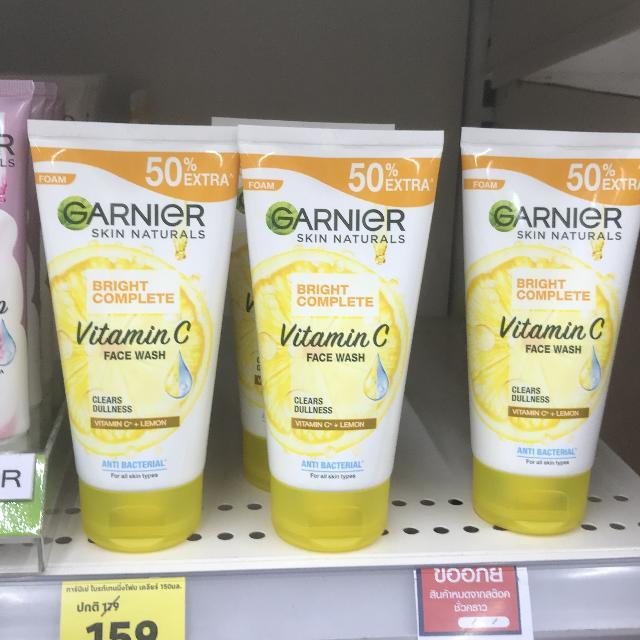Squeeze Tube: (234, 102, 452, 548), (26, 109, 240, 555), (449, 107, 630, 538)
